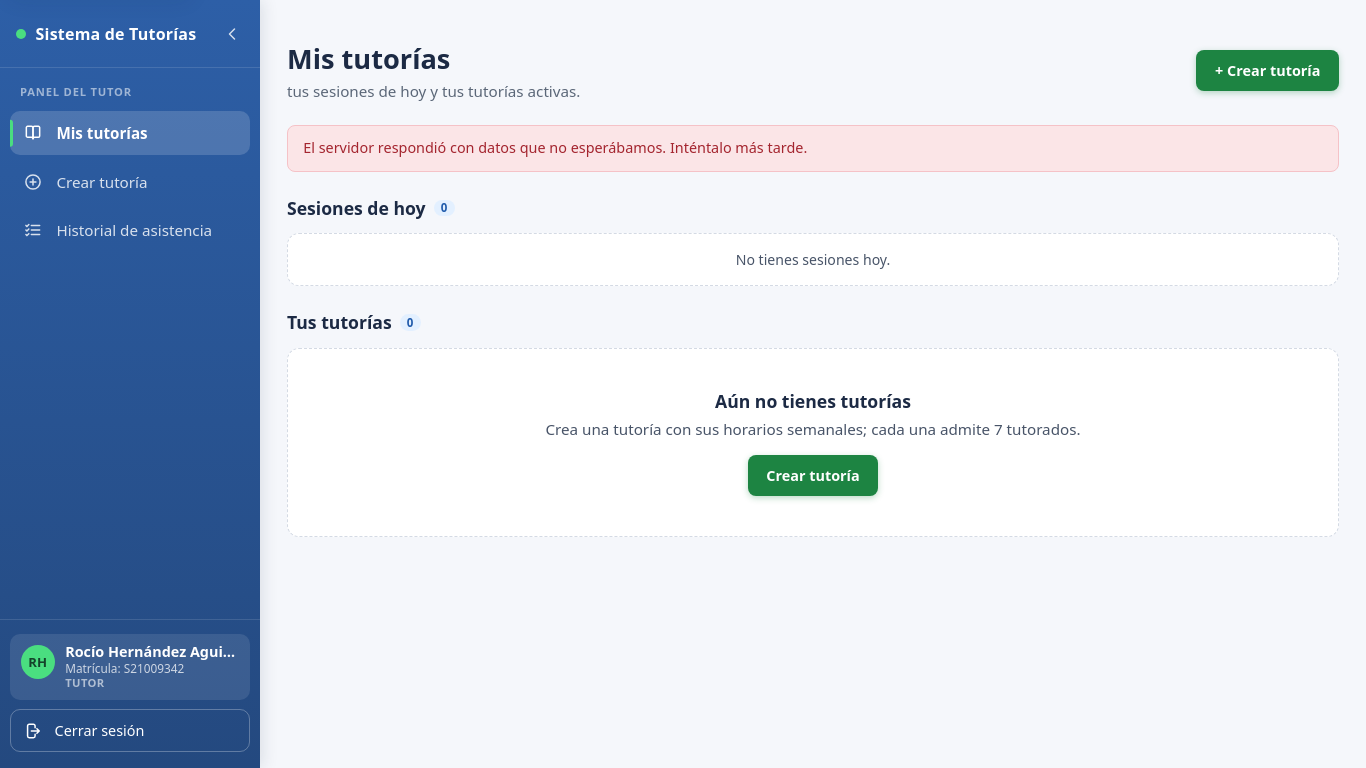
cambio de usuario en la misma pestana › no muestra los datos del usuario anterior
This screenshot has width=1366, height=768.
Check: the text "Rocío Hernández Aguilar" is shown, box [65,643,239,661]
Click the button "Cerrar sesión" at (130, 731), box [10,709,250,752]
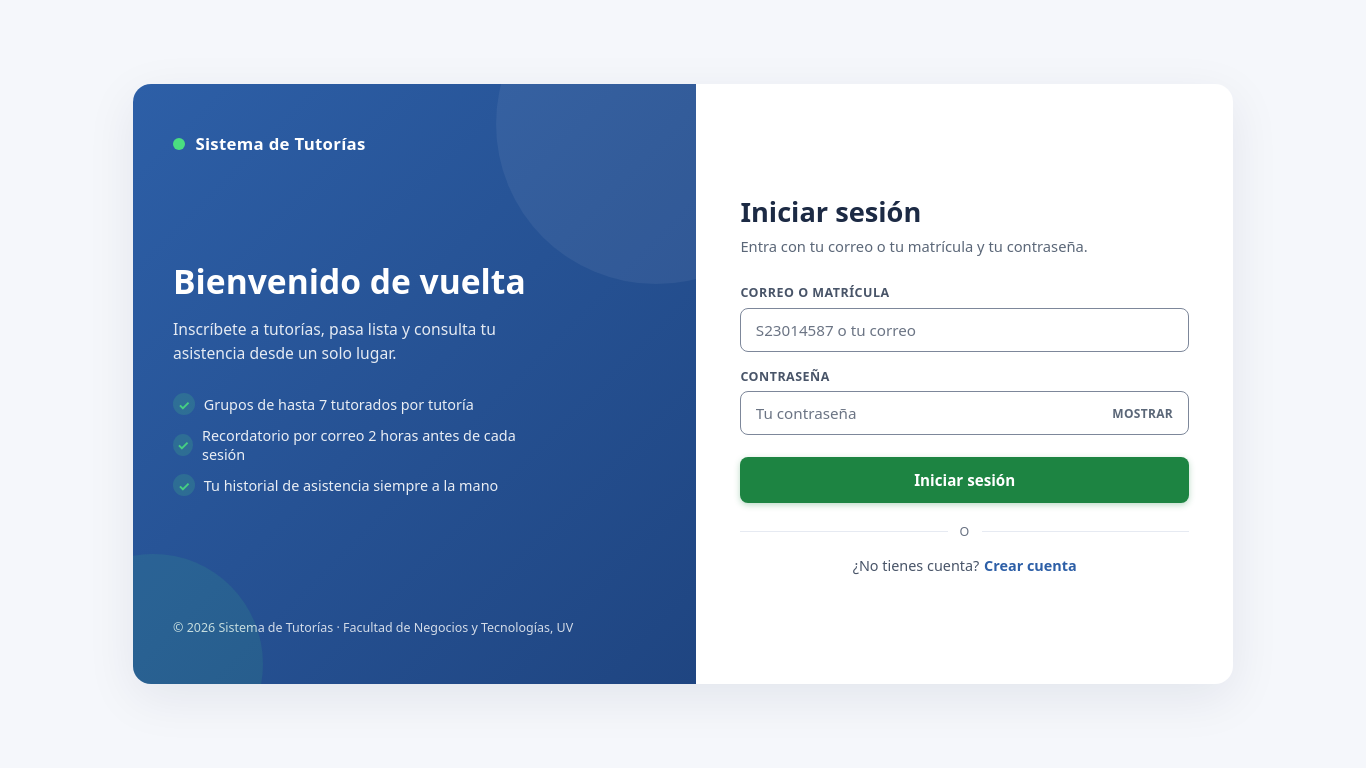
Type "S23014587" into the field labelled "Correo o matrícula" at (965, 330), box [740,308,1189,352]
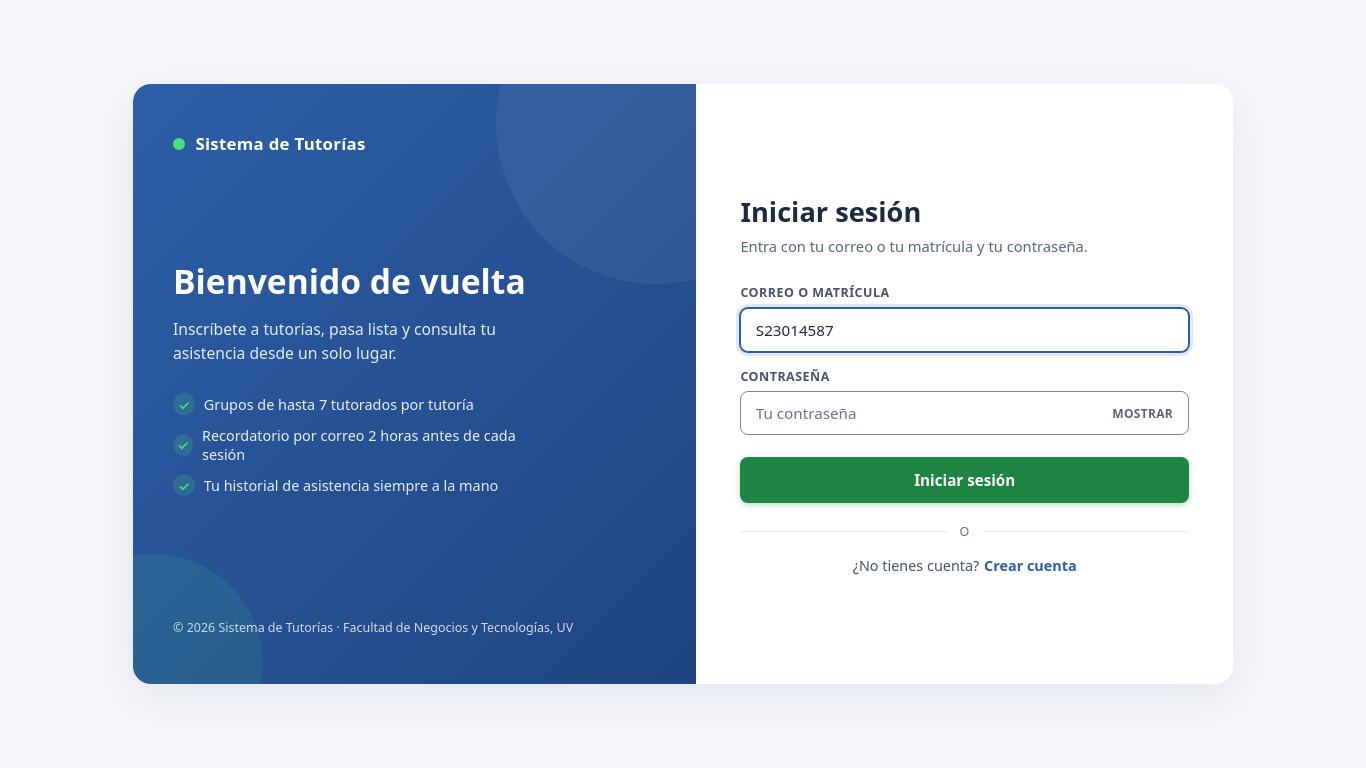
Type "secreta12" into the password field labelled "Contraseña" at (965, 413), box [740,391,1189,435]
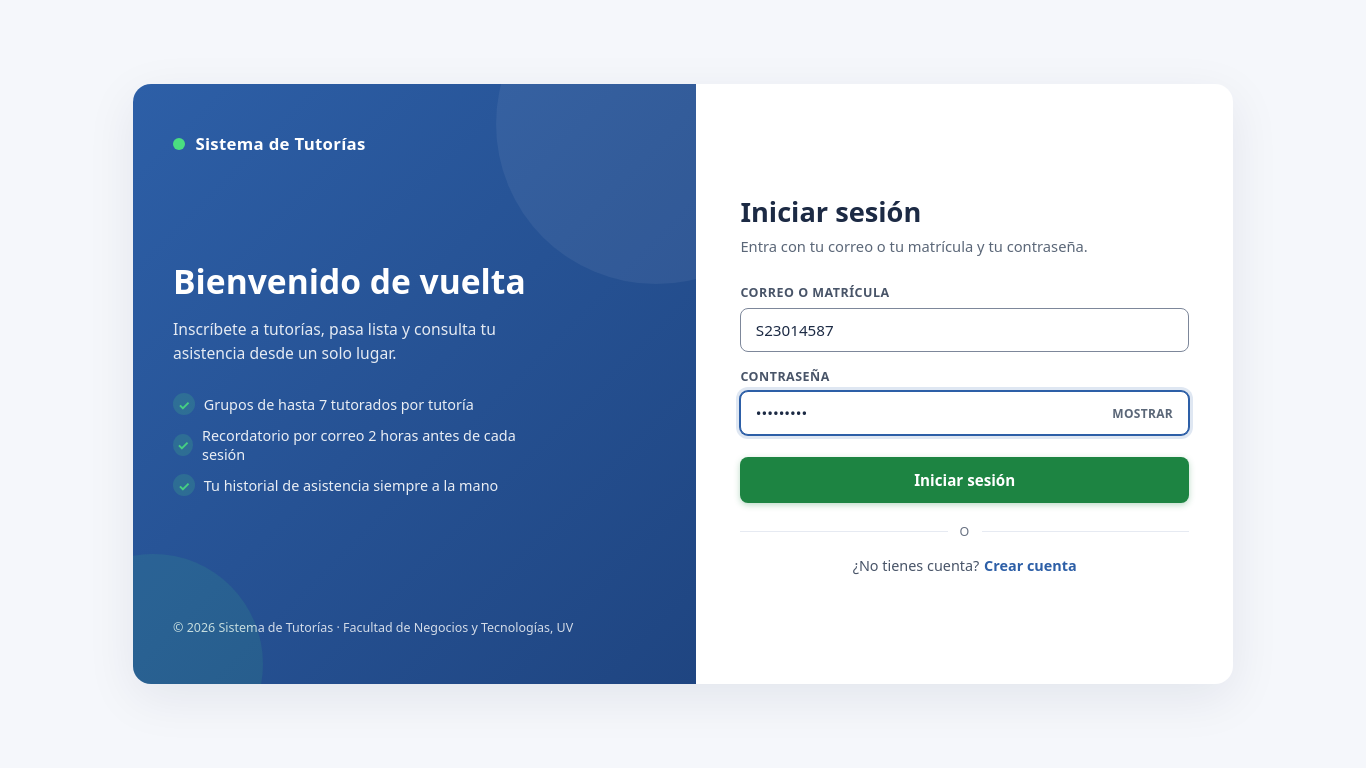
Click the button "Iniciar sesión" at (965, 480), box [740,457,1189,503]
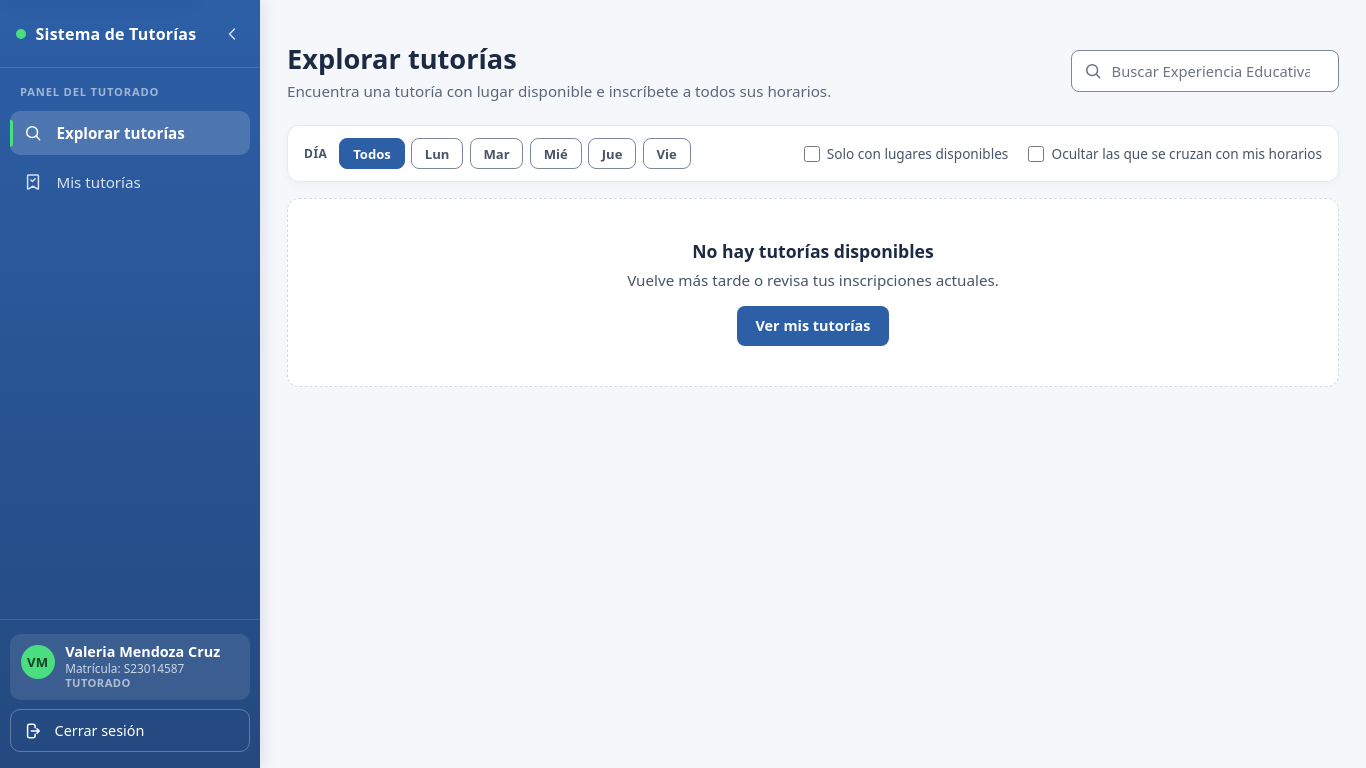
Check: the text "Rocío Hernández Aguilar" is not shown
Check: the text "Valeria Mendoza Cruz" is shown, box [65,643,220,661]
